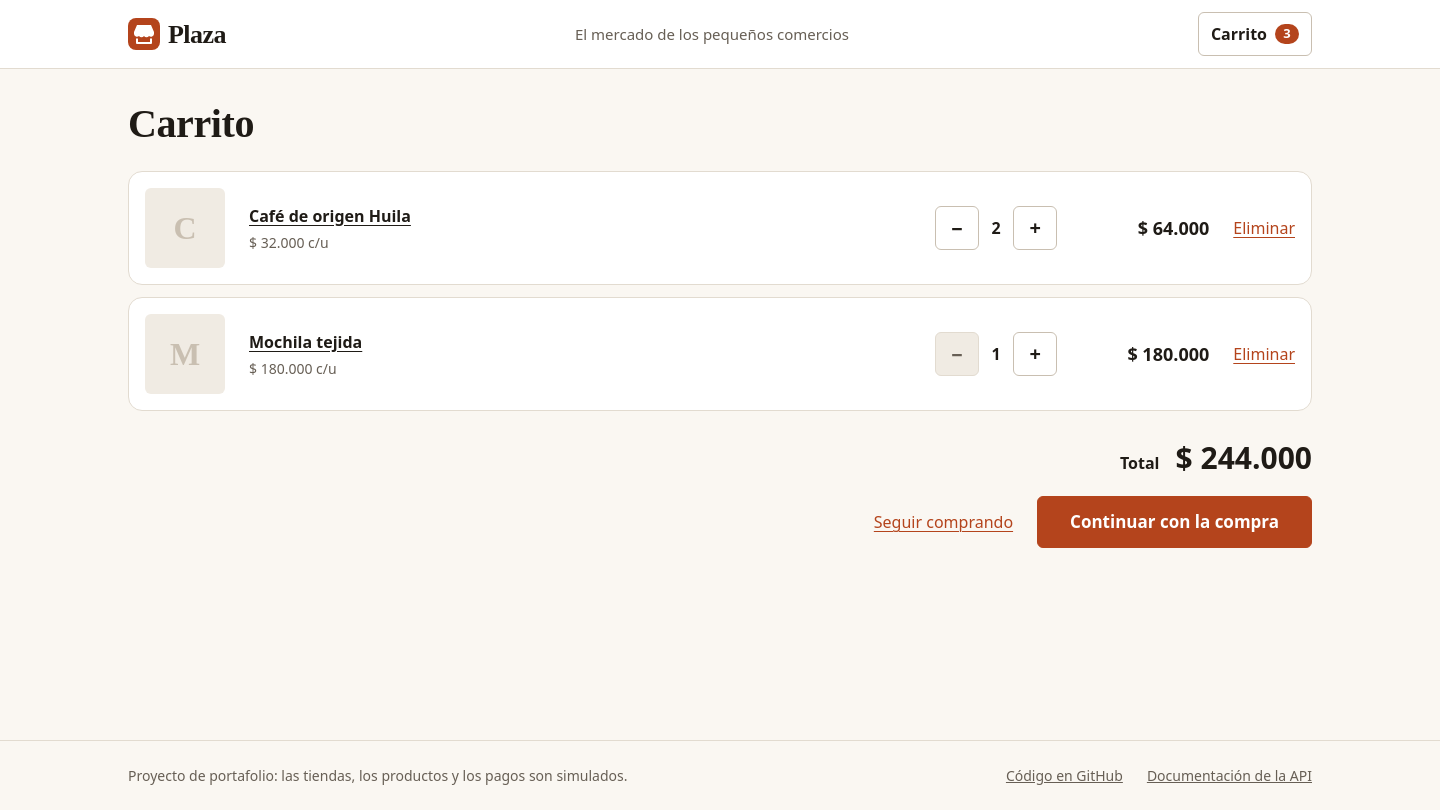
Test: CartPage › changes the quantity of a line with a PUT
The width and height of the screenshot is (1440, 810).
Step 1. Click the button named "Agregar una unidad de Café de origen Huila" → click(1035, 228), box [1013,206,1057,250]
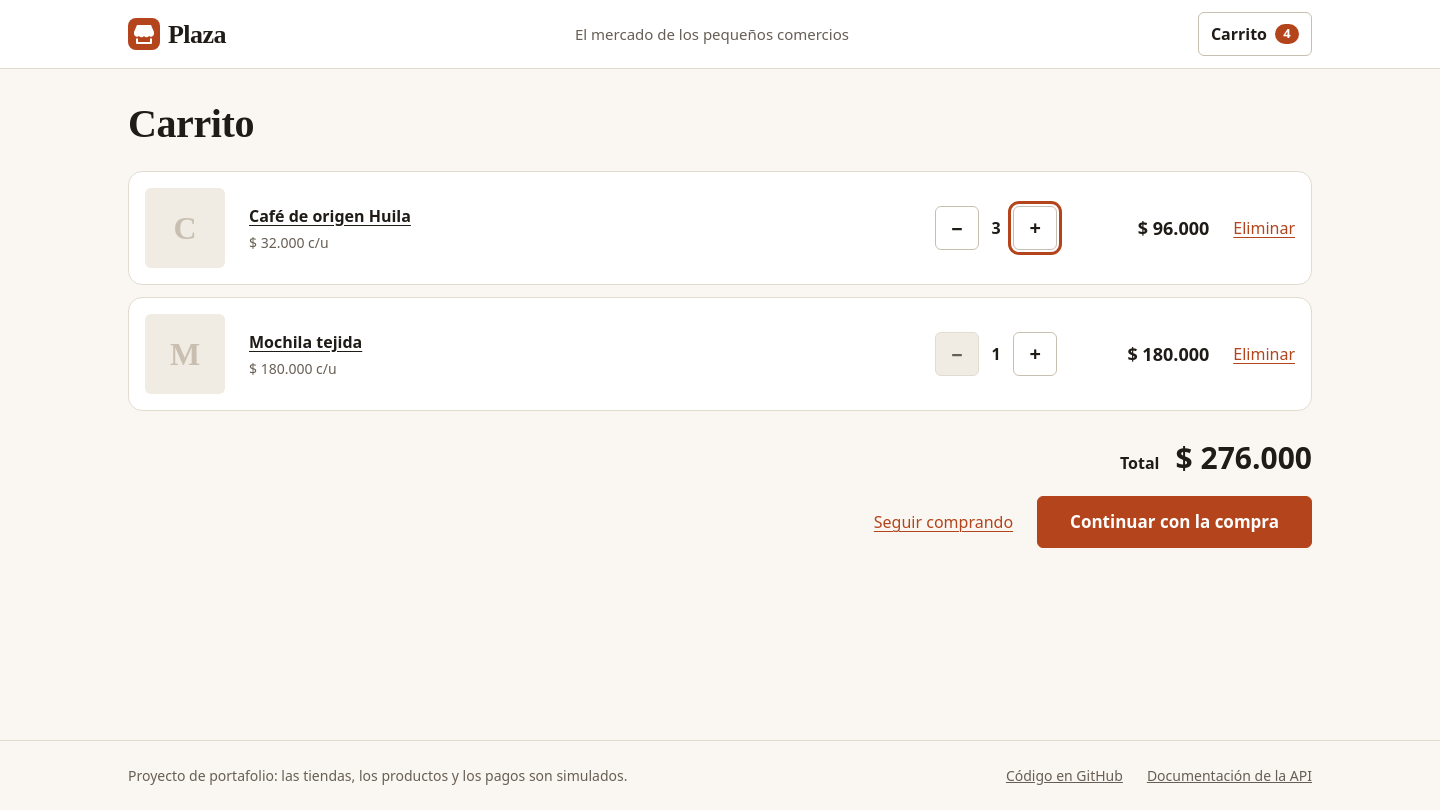
Result: the text "$ 96.000" is shown at [1138,216,1209,240]
Result: the text "$ 276.000" is shown at [1176,435,1312,480]
Result: the link with aria-label "Carrito, 4 unidades" is shown at [1198,12,1312,56]
